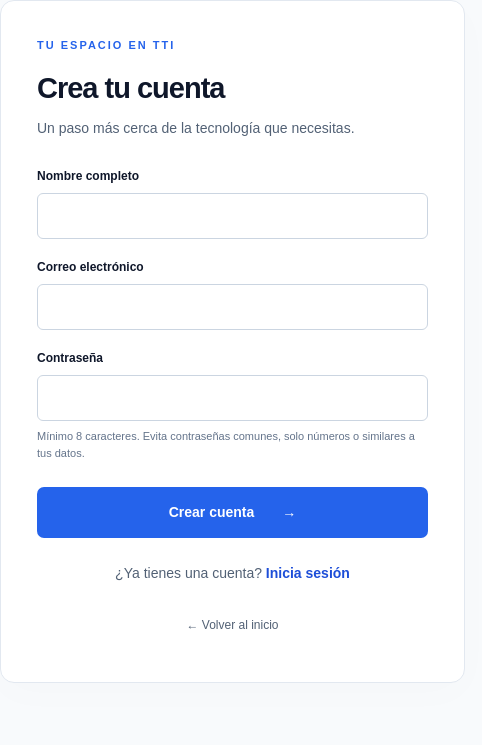
backend password policy errors are displayed at field
The width and height of the screenshot is (482, 745).
Type "Ana Torres" into the field labelled "Nombre completo" at {"x": 232, "y": 216}, box [37, 193, 428, 239]
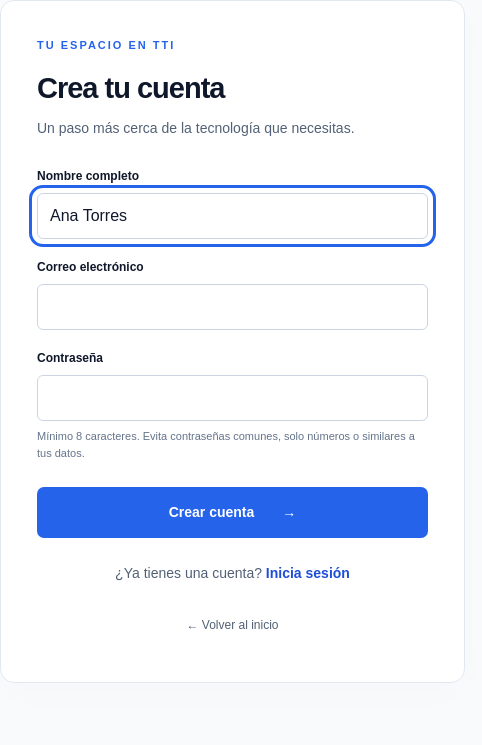
Type "ana@example.com" into the field labelled "Correo electrónico" at {"x": 232, "y": 307}, box [37, 284, 428, 330]
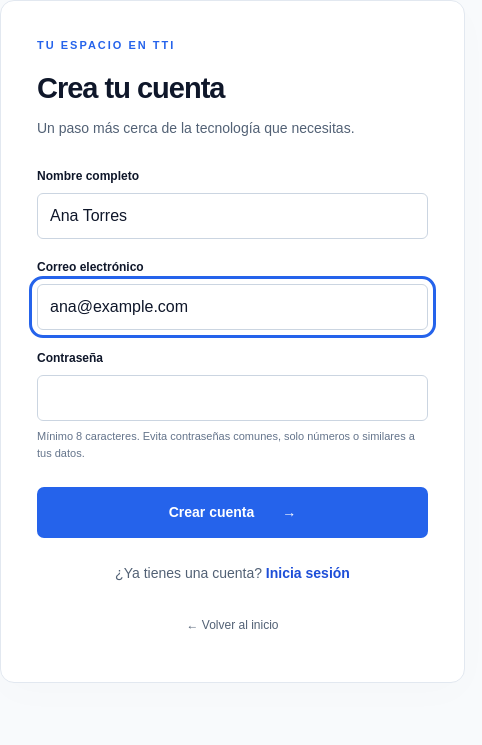
Type "Una-clave!Distinta8472" into the password field labelled "Contraseña" at {"x": 232, "y": 398}, box [37, 375, 428, 421]
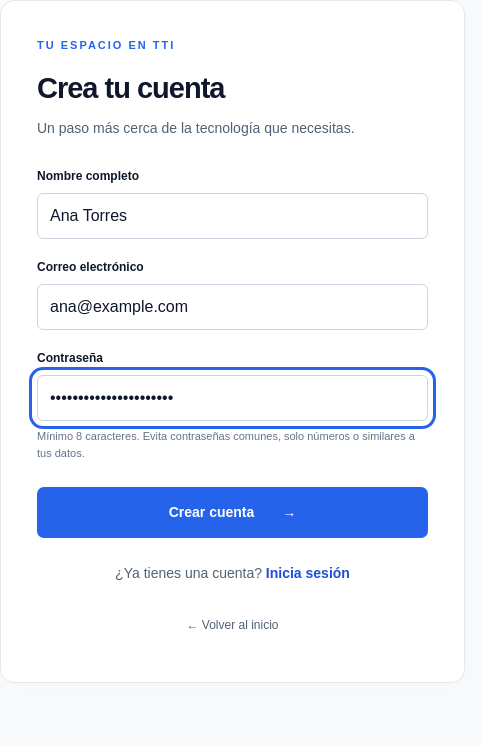
Click the button "Crear cuenta →" at {"x": 232, "y": 512}, box [37, 487, 428, 538]
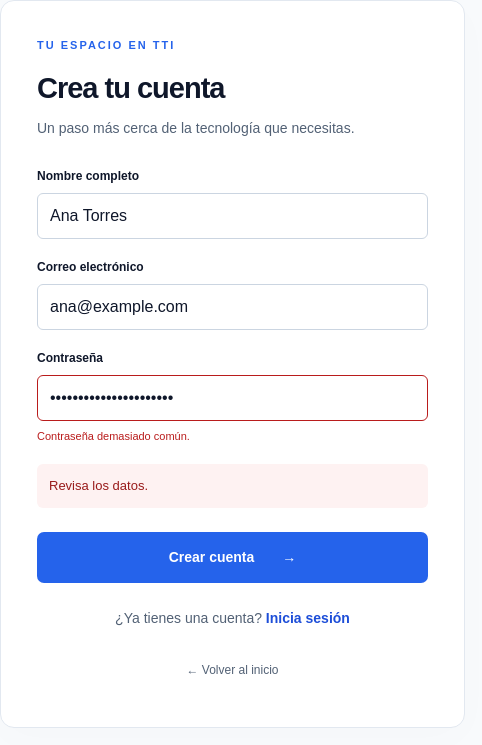
Check: the text "Contraseña demasiado común." is shown, box [37, 430, 190, 442]
